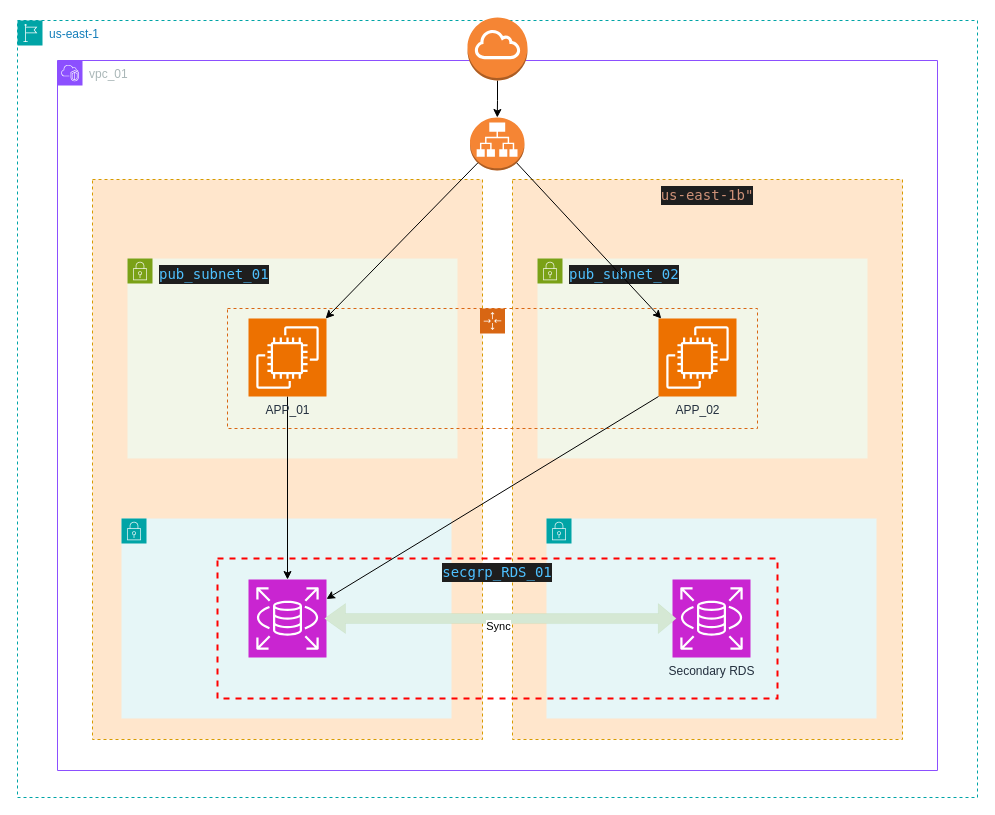
This 995x815 diagram has some shape labels left out. The box of each missing label's shape, as (x1, y1, x2, y2) in pixels:
Auto Scaling group: (226, 308, 758, 428)
Primary RDS: (248, 578, 326, 658)
prv_subnet_01: (546, 518, 876, 718)
prv_subnet_02: (120, 518, 452, 718)
us-east-1a: (92, 178, 482, 740)
